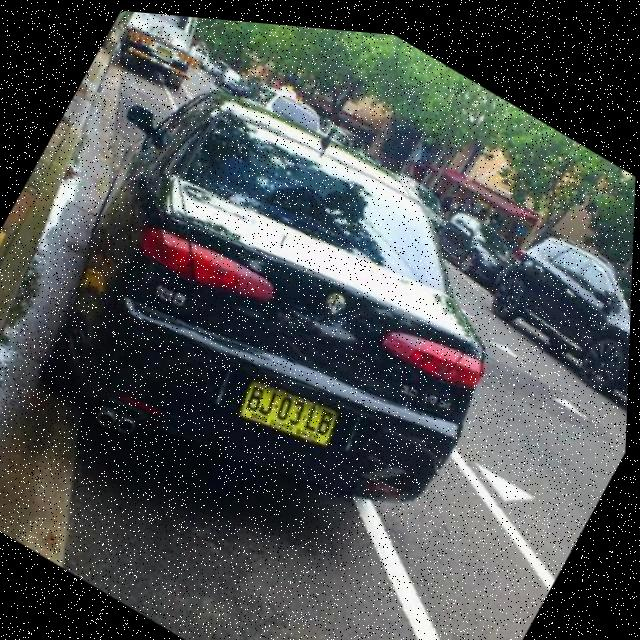license_plate: (234, 356, 348, 458), (155, 40, 174, 56)
